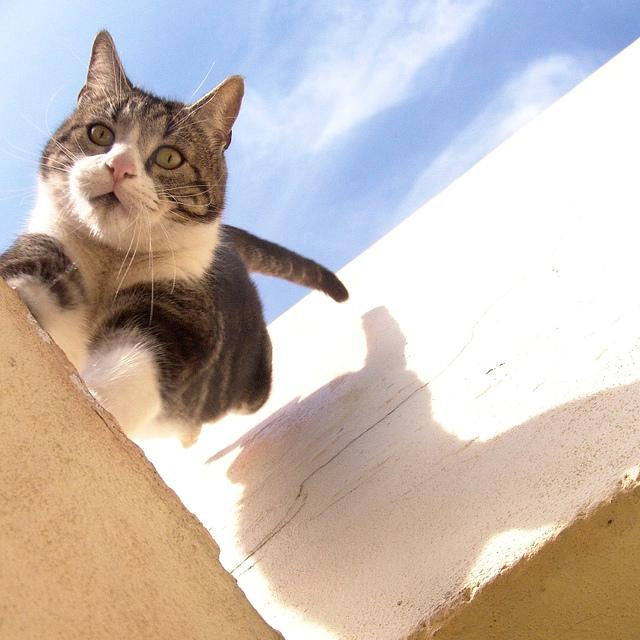animals: (81, 31, 239, 179)
